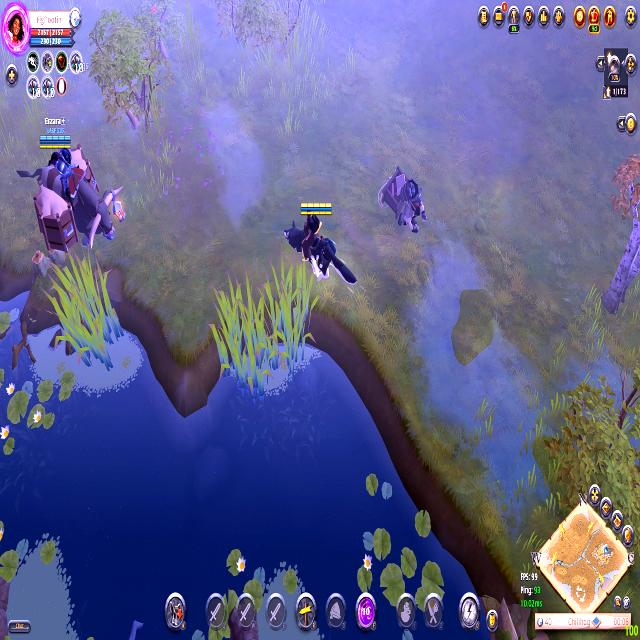ore: (395, 173, 430, 244)
red: (13, 112, 129, 270), (280, 194, 358, 305)
wisp caged: (598, 144, 640, 333)
